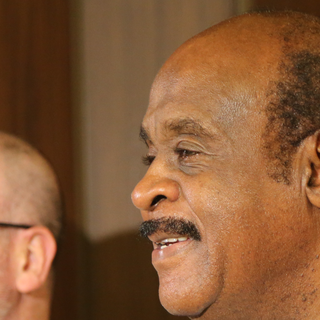eye: (169, 140, 210, 167)
